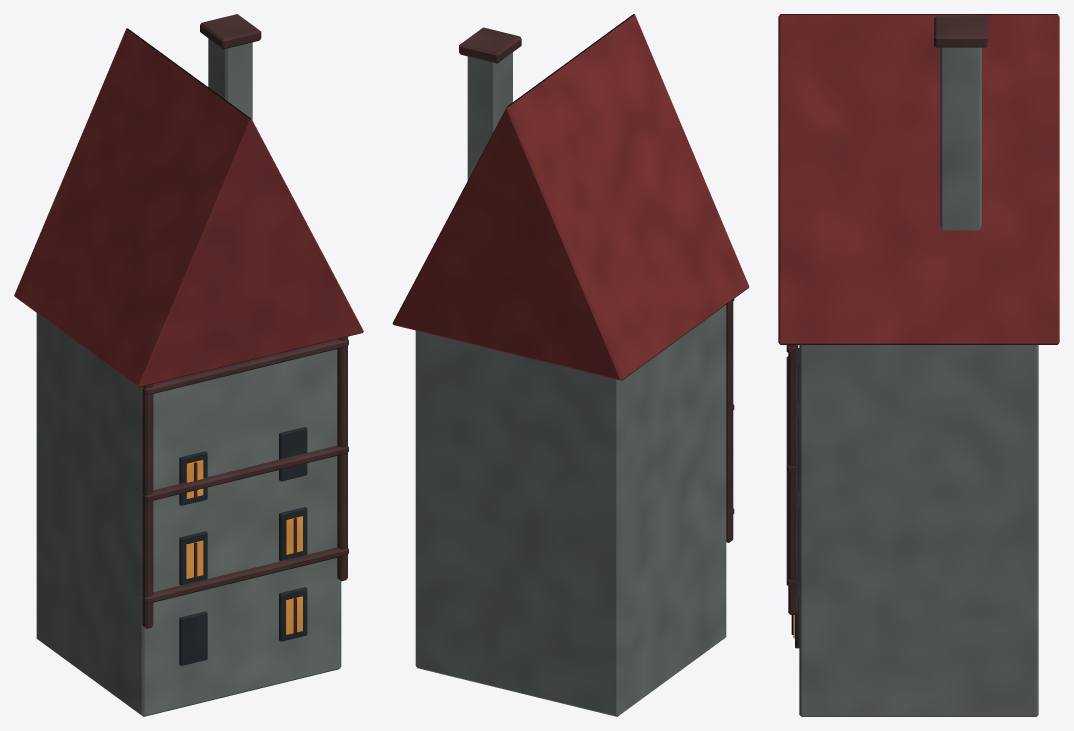
The model's file is gabled_house.glb.
The picture shows the model from 3 angles, left to right: view 1: azimuth 30°, elevation 25°; view 2: azimuth 150°, elevation 25°; view 3: azimuth 270°, elevation 25°; orthographic projection. The views are drawn at different scales.
Visible parts, largest first — view 1: gabled_house; view 2: gabled_house; view 3: gabled_house.
Boxes of the visible parts, bbox=[...] form: gabled_house: bbox=[14, 14, 363, 716]; gabled_house: bbox=[392, 14, 749, 716]; gabled_house: bbox=[778, 14, 1059, 716].
Size of the model in its own units: 4.87 by 12.36 by 4.7.
5 materials, 5 textured.
